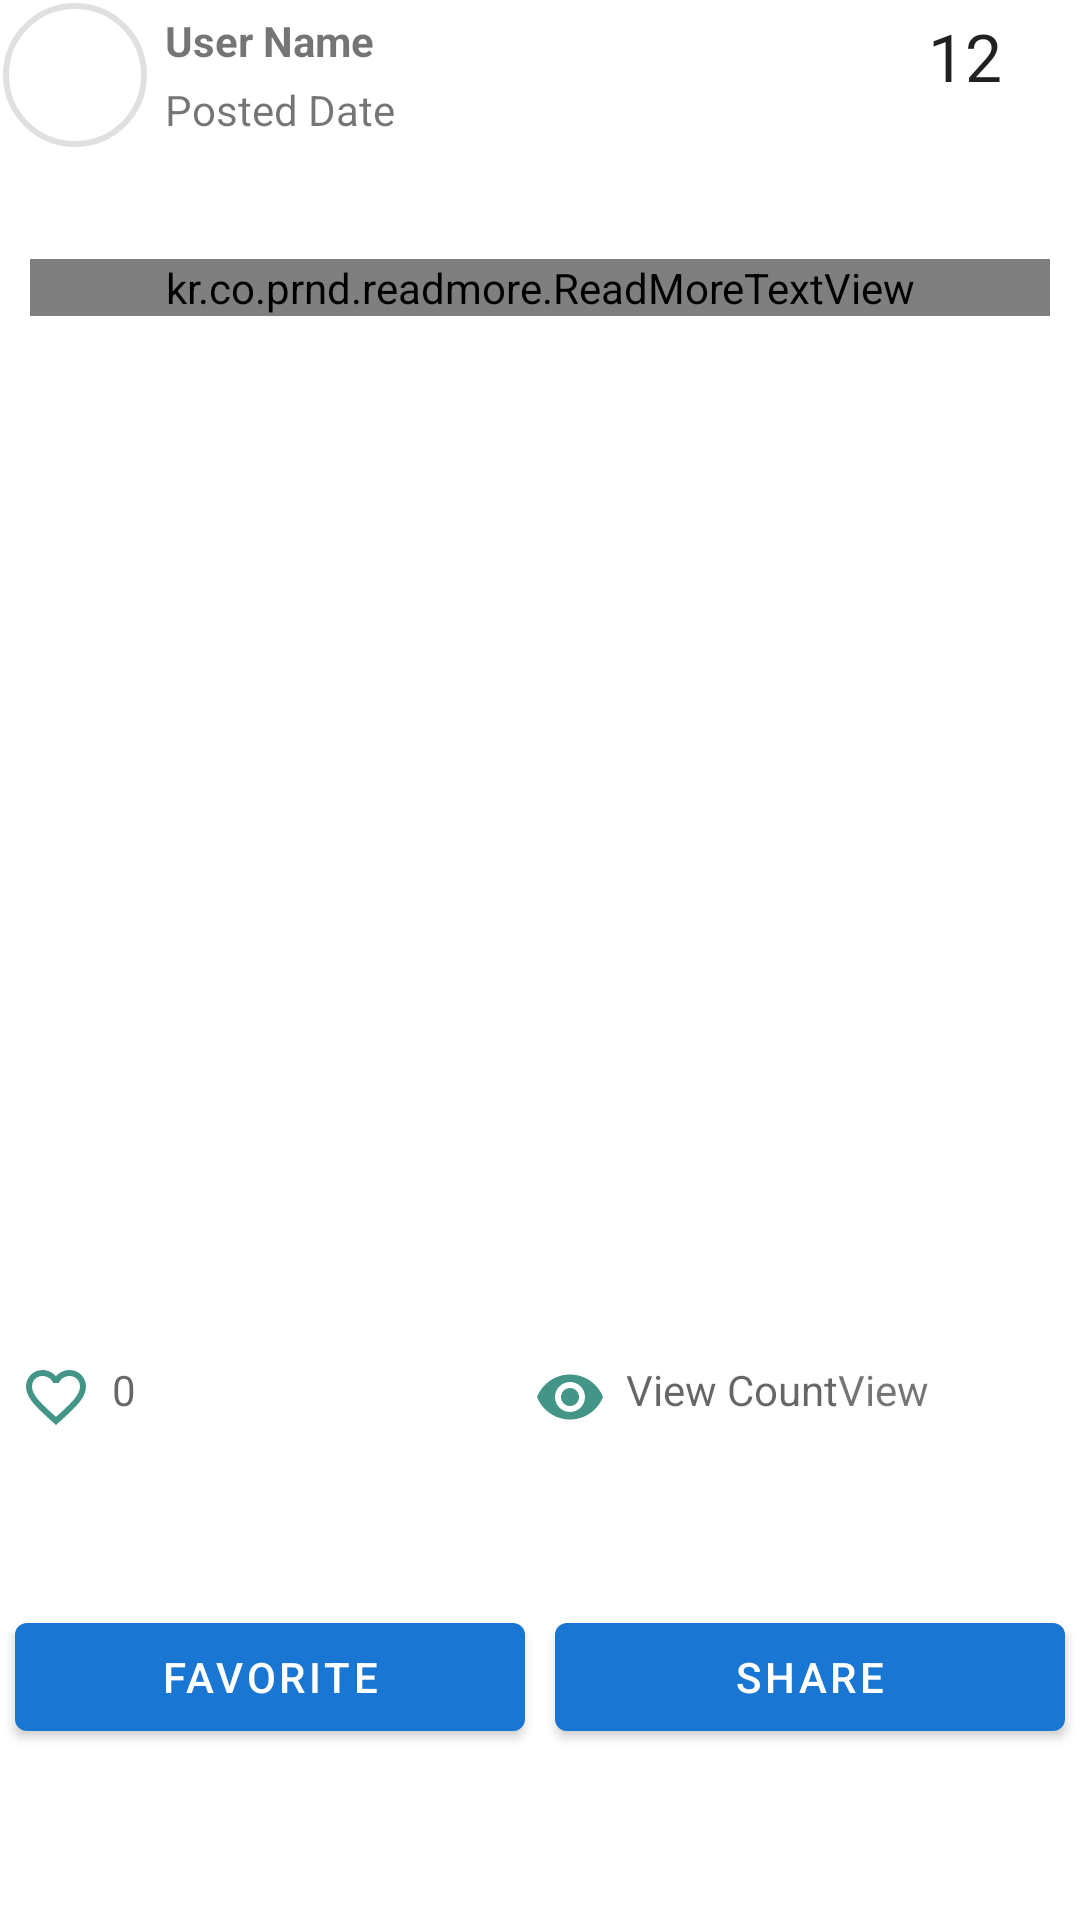

Point at icon controls on the screen. Image size 1080 × 1920, points as (x=x, y=y).
favorite: (x=56, y=1397)
viewer: (x=570, y=1397)
